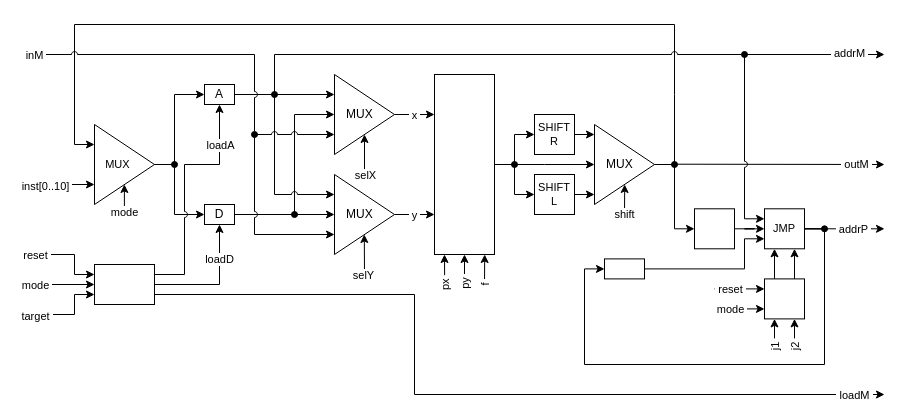
This 910x420 diagram has some shape labels left out. The shapes that lost their labels are listed below. From the top down, each one's centre as x and y in pixels, then its label:
point 464,164: ALU
point 714,228: CMP
point 124,284: LOAD
point 624,268: PC
point 784,298: JC
